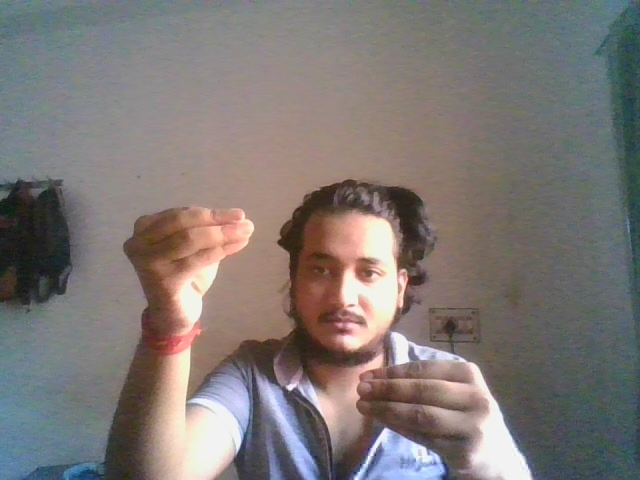Mouth: (355, 360, 516, 480), (125, 203, 258, 311)
